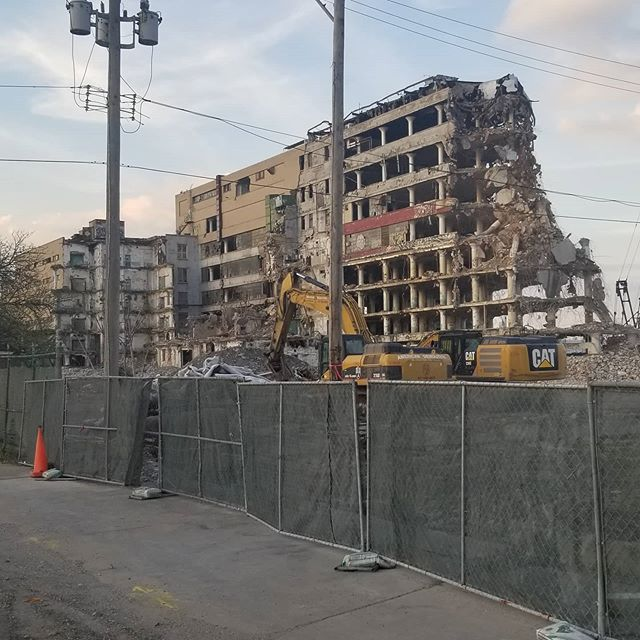building: (199, 51, 603, 350), (31, 214, 198, 365)
excavator: (262, 266, 576, 436)
power pole: (56, 1, 174, 375)
sky: (8, 1, 640, 227)
traffic cone: (24, 422, 53, 478)
